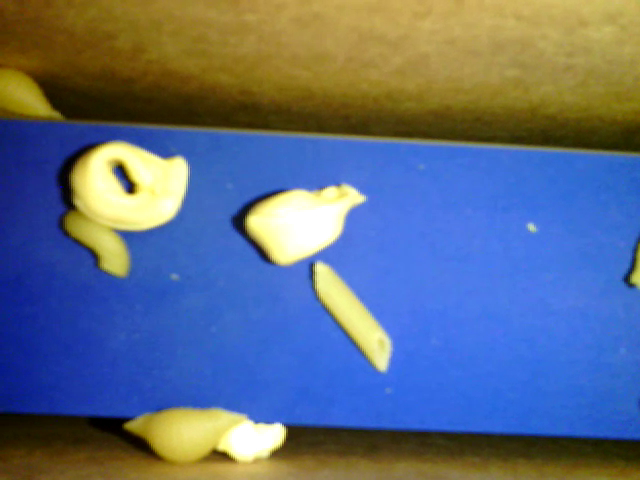elbow: (57, 208, 128, 274)
penne: (310, 256, 394, 368)
shell: (120, 407, 247, 462), (2, 64, 70, 120)
tortellini: (69, 136, 191, 232), (237, 183, 370, 265)
